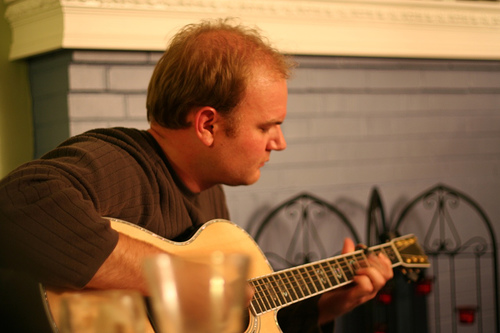guitar: (34, 214, 433, 333)
